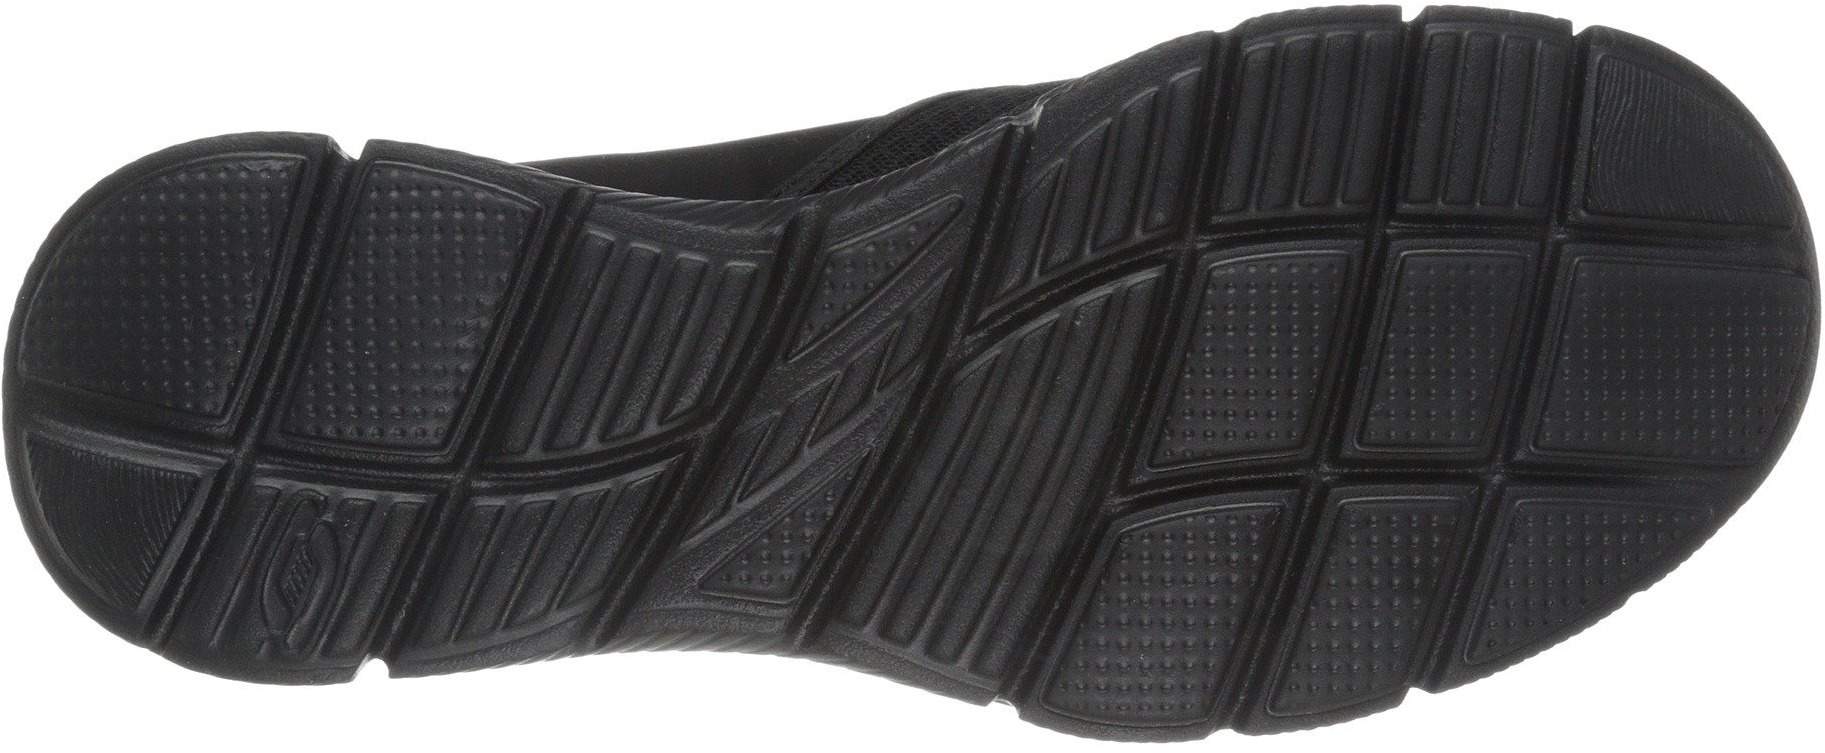circle: (1581, 274, 1764, 454), (1105, 537, 1240, 661), (1199, 296, 1325, 409), (1387, 308, 1501, 421), (1321, 537, 1434, 642), (1515, 506, 1615, 605)
line: (1203, 22, 1398, 219), (952, 358, 1110, 504), (1425, 28, 1564, 157), (1060, 122, 1181, 234)
other: (90, 215, 248, 368), (334, 257, 474, 388), (1599, 85, 1730, 218), (44, 442, 172, 566)
quad: (483, 223, 750, 463), (1203, 22, 1398, 219), (906, 502, 1038, 665), (477, 486, 605, 619)
